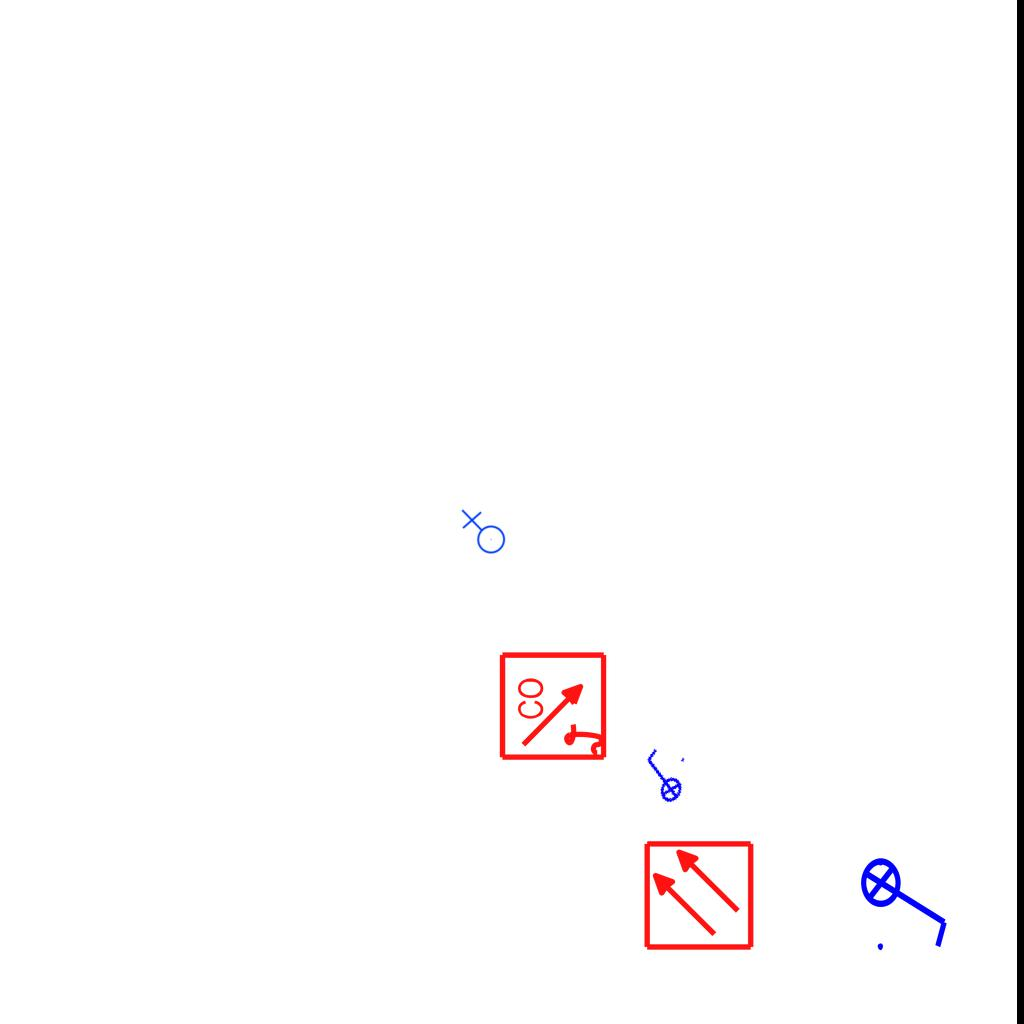Ausschalter_beleuchtet: (859, 844, 955, 956), (629, 742, 695, 812)
Elektroanschluss_allgemein_230V_Geraeteanschlussdose_230V: (459, 509, 506, 558)
RMO_Rauchmelder_optischer: (642, 839, 755, 952)
ROA_Rauchmelder_optisch_mit_Signalgeber_(Sockelsirene): (498, 649, 611, 762)
